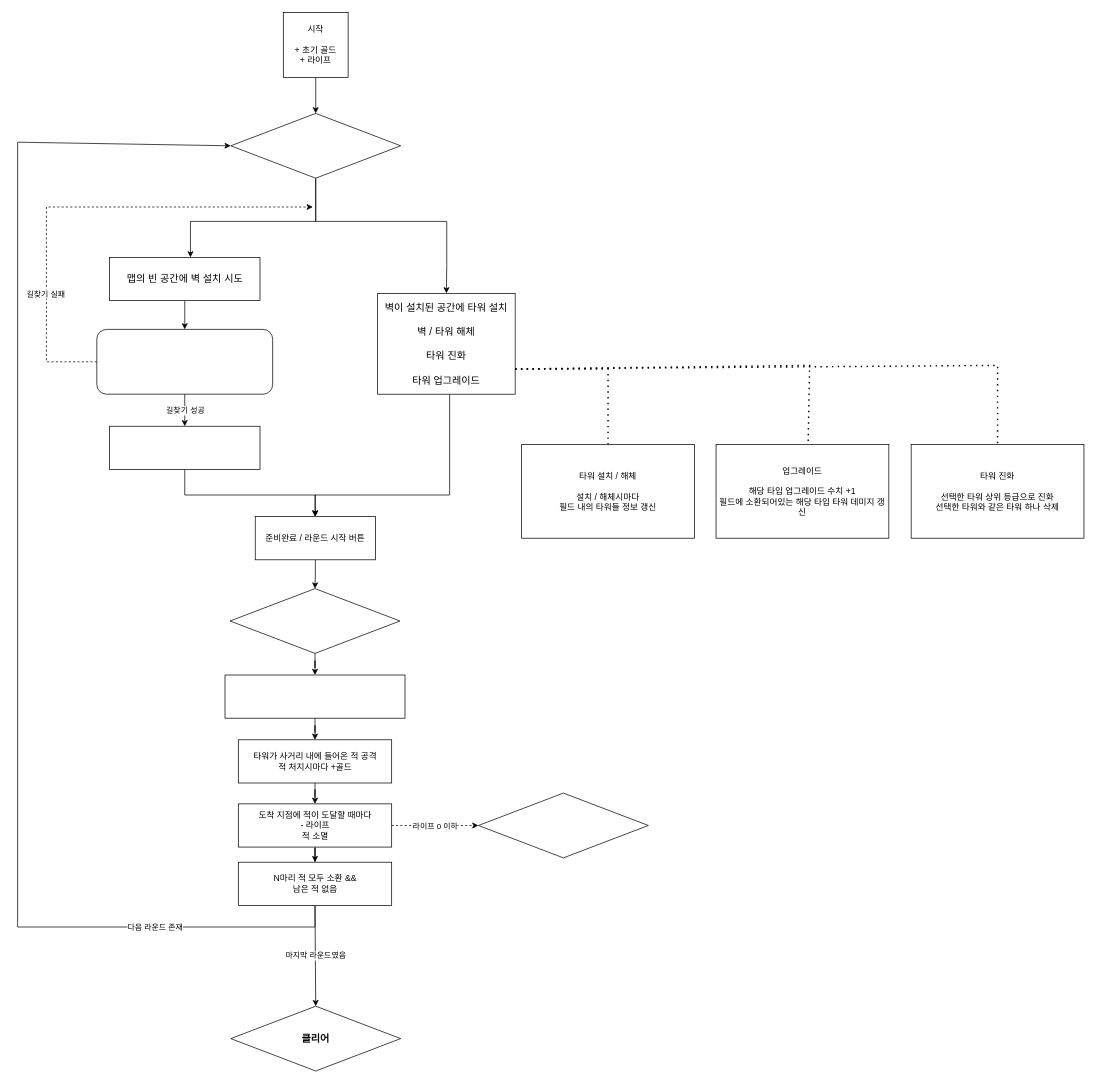
The diagram is 1097 pixels wide and 1084 high, and some of its shapes have lost their labels. Each missing label, with the centre of its shape:
"게임 오버" goes at point (563, 825).
"디펜스 페이즈" goes at point (314, 620).
"시작 지점에서 도착 지점까지 이동하는 해당 라운드의 적 N마리 생성" goes at point (314, 696).
"준비 페이즈" goes at point (315, 145).
"해당 공간에 벽 설치" goes at point (184, 447).
"해당 공간에 벽 설치 된 경우의 맵 정보로 길찾기" goes at point (184, 361).
